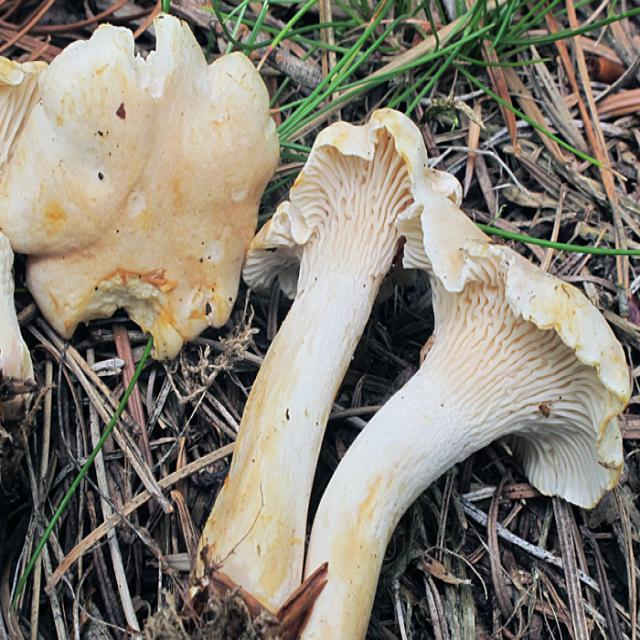Cantharellus cibarius: (208, 109, 627, 640), (0, 11, 281, 351)
